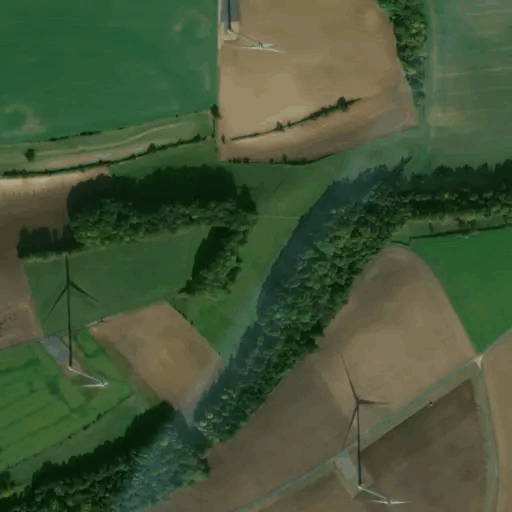wt: (330, 352, 417, 510), (38, 248, 113, 393), (215, 1, 284, 55)
